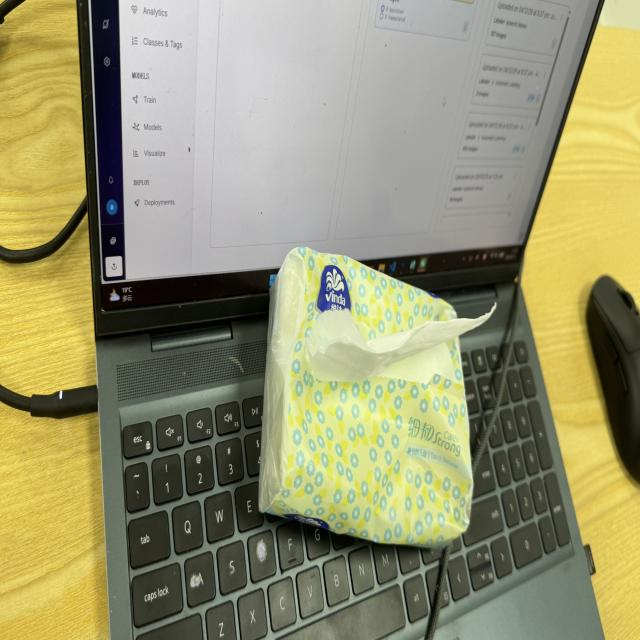tissue: (260, 248, 489, 545)
